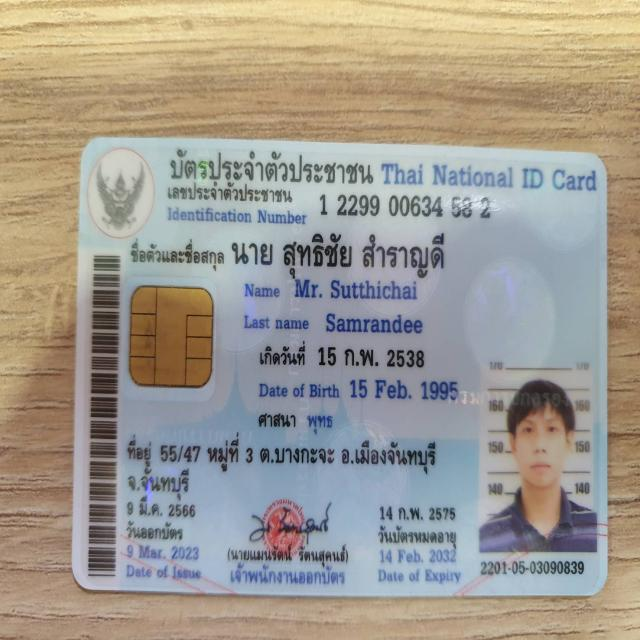Address_th: (121, 426, 453, 504)
Date_of_Birth: (343, 373, 462, 409)
Date_of_Expiry: (376, 542, 461, 568)
Date_of_Issue: (122, 542, 204, 566)
First_Name: (294, 278, 419, 308)
ID_Number: (312, 186, 505, 227)
Image: (477, 360, 598, 553)
Last_Name: (322, 310, 432, 341)
Thai_Name: (228, 228, 451, 280)
